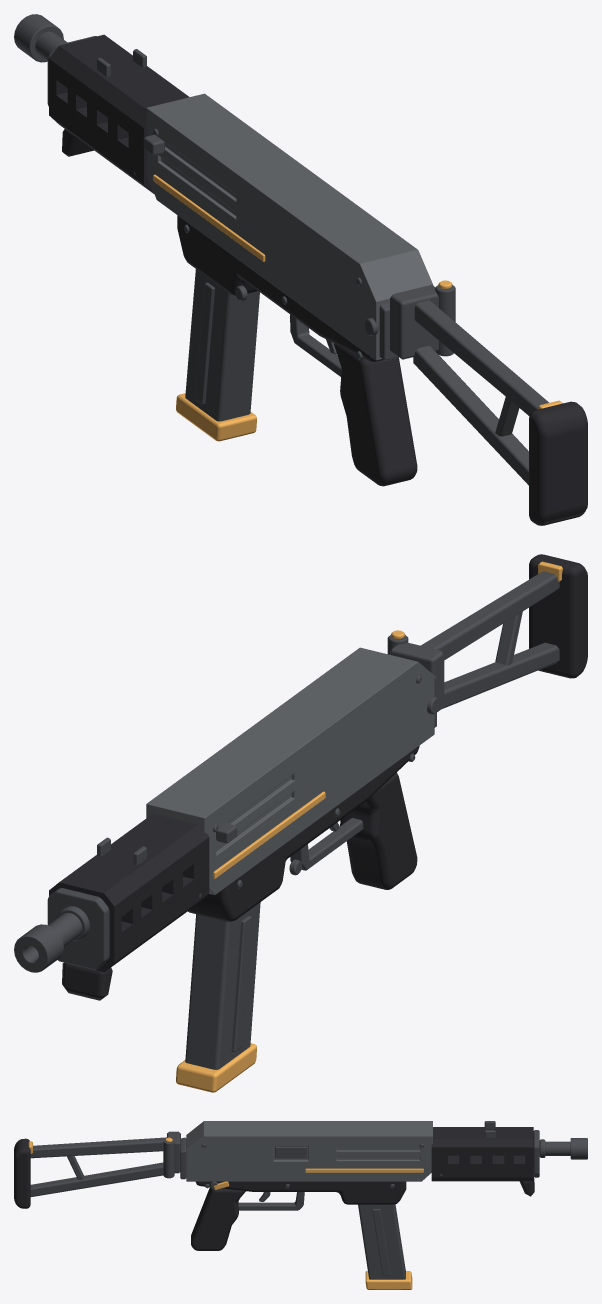
The model's file is viper.glb.
3 renders of one model, top to bottom at view 1: azimuth 30°, elevation 25°; view 2: azimuth 150°, elevation 25°; view 3: azimuth 270°, elevation 25°, orthographic. The views are drawn at different scales.
Visible parts, largest first — view 1: receiver.004, handguard.005, mag.006, pgrip.006, buttplate.002, lowerhousing, stockstrutT, stockstrutB, hingeblock, muzzlecomp, tguard.008, vstripe0 (+2 smaller); view 2: receiver.004, handguard.005, mag.006, pgrip.006, buttplate.002, lowerhousing, stockstrutT, nosecap, stockstrutB, muzzlecomp, handstop.001, tguard.008 (+3 smaller); view 3: receiver.004, handguard.005, mag.006, lowerhousing, pgrip.006, stockstrutT, stockstrutB, buttplate.002, tguard.008, vstripe1, hingeknuckle, breechface.001 (+5 smaller).
Part boxes in pixels (x1,y1,x2,y2): receiver.004: (146, 93, 433, 360); handguard.005: (49, 34, 189, 193); mag.006: (176, 269, 259, 441); pgrip.006: (334, 343, 417, 486); buttplate.002: (529, 401, 587, 525); lowerhousing: (177, 215, 383, 361); stockstrutT: (414, 300, 548, 415); stockstrutB: (413, 345, 528, 485); hingeblock: (390, 284, 438, 359); muzzlecomp: (14, 14, 63, 62); tguard.008: (290, 314, 341, 376); vstripe0: (153, 174, 265, 261); receiver.004: (146, 647, 434, 894); handguard.005: (49, 813, 209, 972); mag.006: (176, 902, 260, 1092); pgrip.006: (340, 772, 417, 889); buttplate.002: (529, 554, 587, 678); lowerhousing: (188, 746, 419, 921); stockstrutT: (421, 571, 559, 660); nosecap: (47, 888, 109, 969); stockstrutB: (442, 642, 559, 708); muzzlecomp: (14, 924, 63, 972); handstop.001: (62, 962, 112, 1000); tguard.008: (290, 818, 363, 870); receiver.004: (186, 1121, 432, 1181); handguard.005: (431, 1127, 533, 1181); mag.006: (358, 1204, 412, 1289); lowerhousing: (196, 1181, 406, 1204); pgrip.006: (191, 1187, 245, 1250); stockstrutT: (30, 1137, 166, 1158); stockstrutB: (30, 1162, 163, 1196); buttplate.002: (14, 1138, 30, 1208); tguard.008: (238, 1192, 304, 1210); vstripe1: (305, 1168, 423, 1172); hingeknuckle: (163, 1140, 174, 1178); breechface.001: (275, 1146, 307, 1158).
Bounding box in the file's own units: 0.067 × 0.252 × 0.822.
